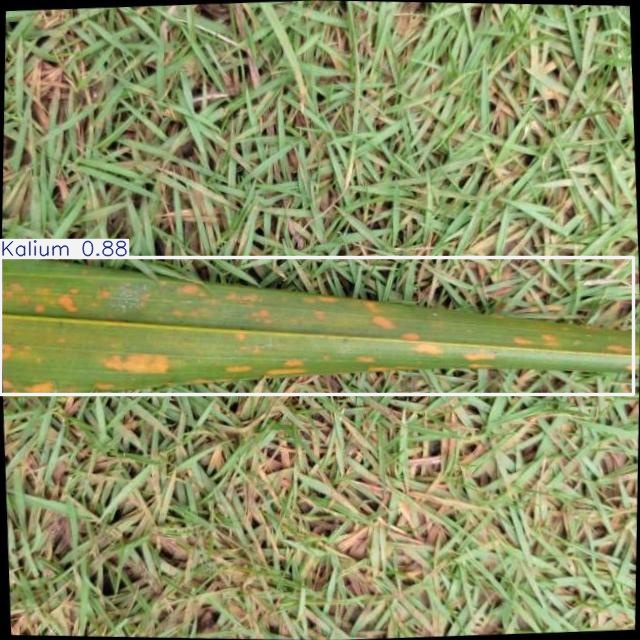Kalium: (1, 257, 634, 395)
